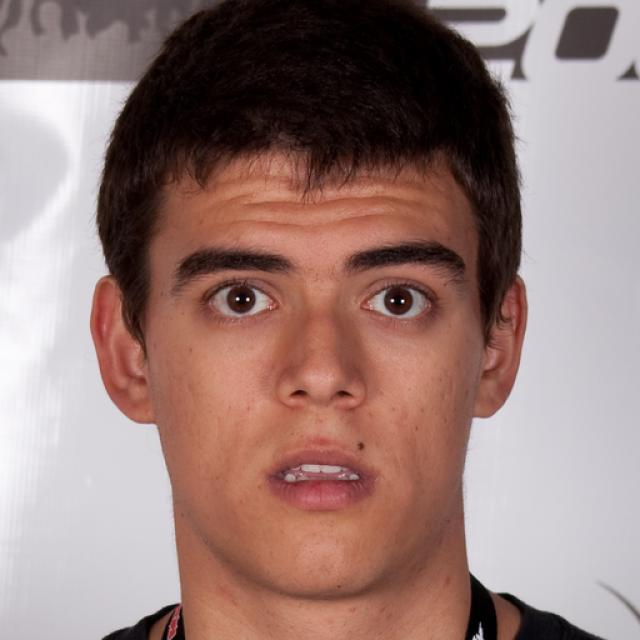fear: (152, 135, 480, 596)
